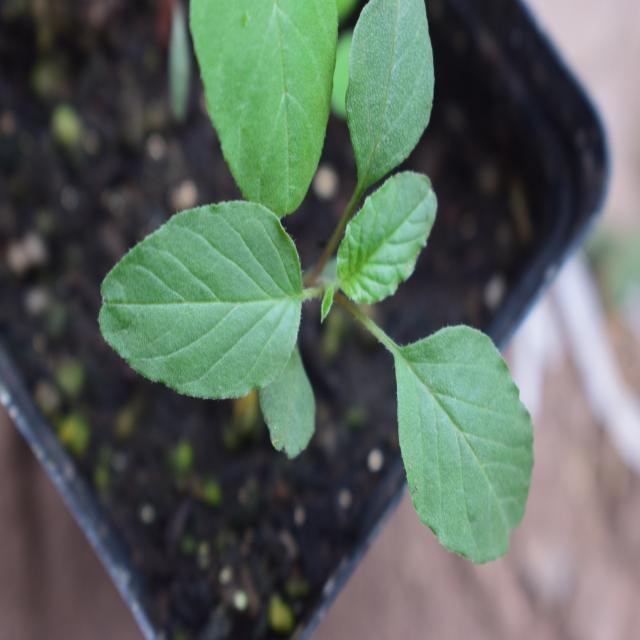pigweed: (93, 18, 548, 555)
